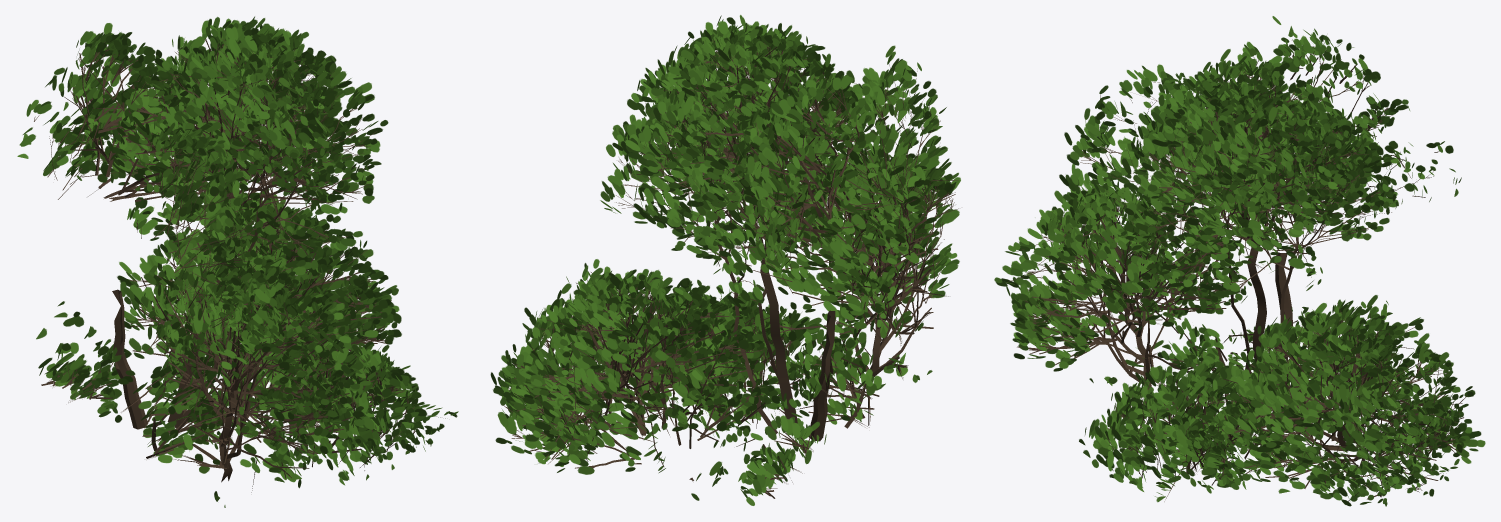
3 views of the same model, side by side, from view 1: azimuth 30°, elevation 25°; view 2: azimuth 150°, elevation 25°; view 3: azimuth 270°, elevation 25° (orthographic). The views are drawn at different scales.
Parts seen in each view (by area): view 1: oak 01.001_trunk_Mat.001_0.447; view 2: oak 01.001_trunk_Mat.001_0.447; view 3: oak 01.001_trunk_Mat.001_0.447.
Part boxes in pixels (x1,y1,x2,y2): oak 01.001_trunk_Mat.001_0.447: (17,16,458,507); oak 01.001_trunk_Mat.001_0.447: (490,15,960,505); oak 01.001_trunk_Mat.001_0.447: (994,16,1485,506).
Bounding box in the file's own units: 3.44 × 4.23 × 4.79.
Materials: 2 (1 with a texture image).
